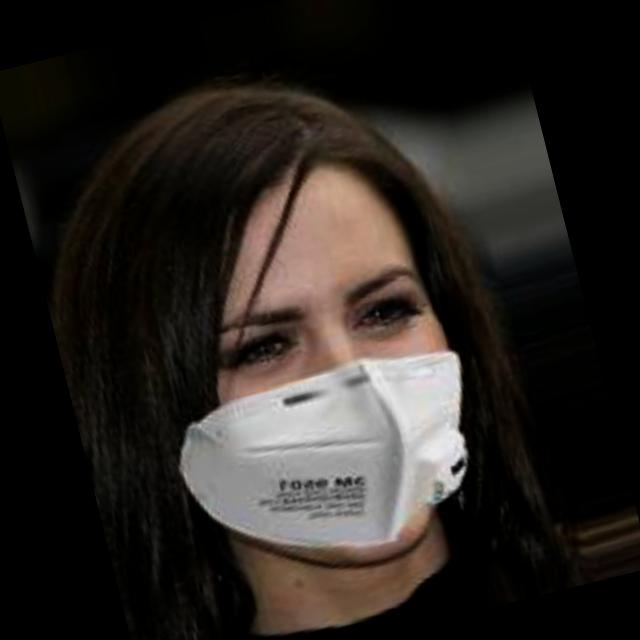suspicion: (70, 48, 508, 634)
